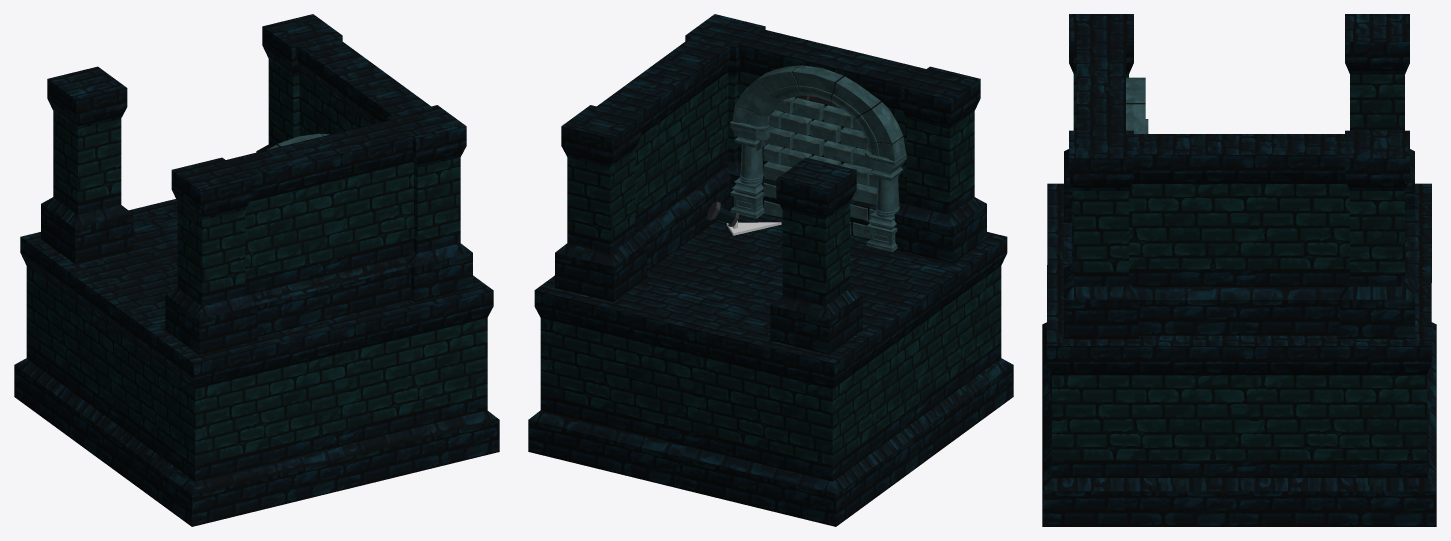
Rendered from tile-corner-r-brick.glb.
The picture shows the model from 3 angles, left to right: view 1: azimuth 30°, elevation 25°; view 2: azimuth 150°, elevation 25°; view 3: azimuth 270°, elevation 25°; orthographic projection. The views are drawn at different scales.
Parts seen in each view (by area): view 1: mergedBlocks(Clone); view 2: mergedBlocks(Clone); view 3: mergedBlocks(Clone).
Boxes of the visible parts, x1,y1,x2,y2 form: mergedBlocks(Clone): (14,14,499,526); mergedBlocks(Clone): (528,14,1013,526); mergedBlocks(Clone): (1042,14,1436,526).
Bounding box in the file's own units: 2 × 2 × 2.
12 materials, 6 textured.
